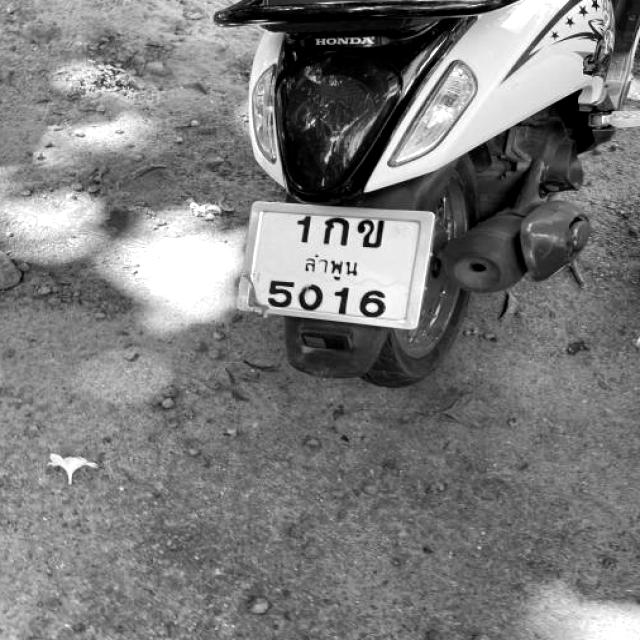letters: (288, 212, 318, 250), (323, 211, 352, 250), (362, 290, 390, 326), (359, 215, 386, 249), (299, 278, 323, 308), (267, 280, 291, 307), (336, 288, 353, 316)
license-plate: (235, 202, 431, 332)
province: (297, 251, 361, 281)
